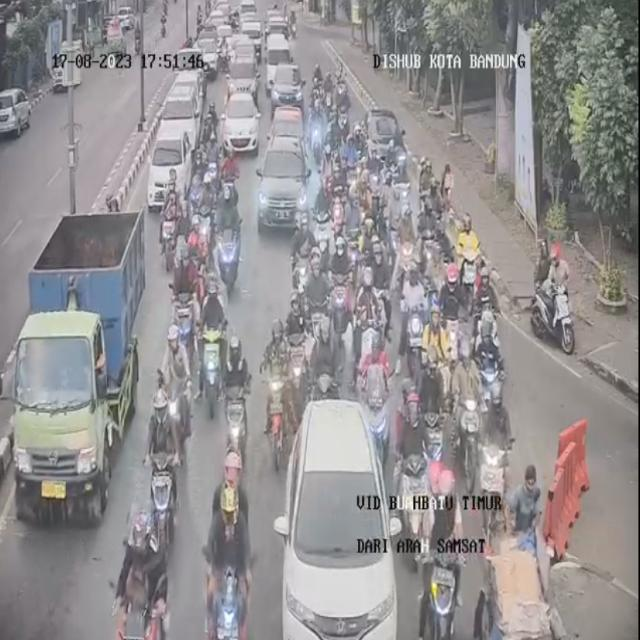cars: (276, 399, 400, 640), (257, 136, 312, 236), (151, 122, 191, 209), (164, 85, 203, 148), (363, 106, 402, 169), (224, 89, 259, 152), (270, 105, 306, 157), (270, 60, 300, 114), (169, 69, 203, 114), (262, 36, 292, 84), (228, 53, 255, 100), (197, 38, 220, 76)
motorcycle: (202, 471, 252, 638), (419, 463, 466, 640), (114, 508, 175, 638), (147, 392, 186, 550), (466, 310, 504, 453), (195, 282, 229, 420), (354, 271, 392, 387), (218, 334, 251, 463), (162, 324, 196, 449), (421, 355, 454, 478), (536, 244, 575, 346), (298, 254, 330, 378), (358, 230, 402, 318), (216, 184, 246, 299), (154, 364, 191, 454), (201, 563, 243, 640), (456, 212, 489, 308), (263, 323, 290, 438), (402, 263, 428, 378), (395, 380, 428, 470), (396, 199, 427, 292), (440, 266, 466, 371), (172, 242, 200, 339), (160, 178, 185, 280), (184, 213, 212, 304), (292, 204, 320, 294), (424, 206, 454, 286), (422, 174, 452, 253), (472, 259, 498, 349), (308, 180, 332, 271), (194, 166, 218, 255), (332, 234, 356, 321), (362, 212, 390, 276), (218, 142, 239, 208), (347, 124, 368, 180), (323, 110, 342, 170), (325, 149, 344, 206), (308, 86, 324, 148), (310, 61, 324, 110), (338, 86, 353, 131), (336, 71, 351, 115), (327, 68, 342, 111), (206, 102, 219, 146)
truck: (16, 216, 143, 524), (242, 0, 260, 28)
